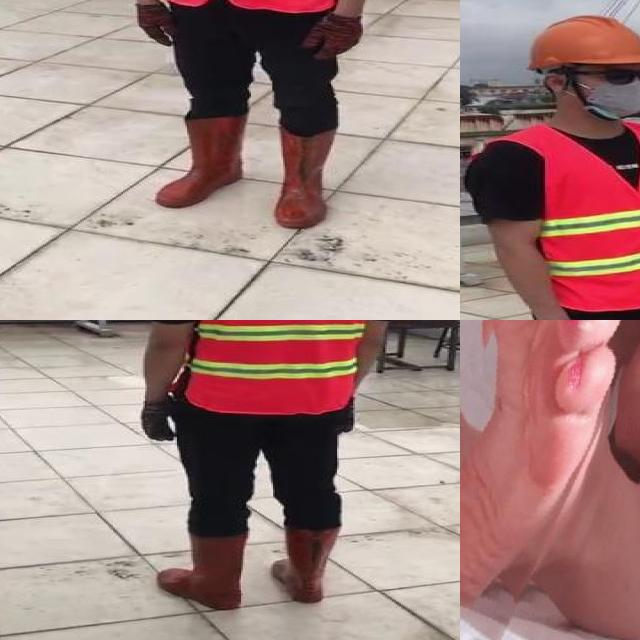Barefoots: (460, 320, 634, 608)
boots: (157, 116, 246, 208), (160, 531, 246, 612), (274, 126, 333, 229), (271, 526, 341, 603)
face_mask: (580, 60, 640, 120)
glasses: (592, 62, 640, 91)
hand_glove: (302, 16, 364, 58), (134, 4, 176, 47), (138, 400, 180, 443), (340, 400, 354, 432)
head_helmet: (523, 13, 640, 69)
person: (133, 320, 400, 613), (117, 0, 403, 240), (460, 13, 640, 320)
vest: (543, 122, 640, 312), (189, 320, 383, 415)
